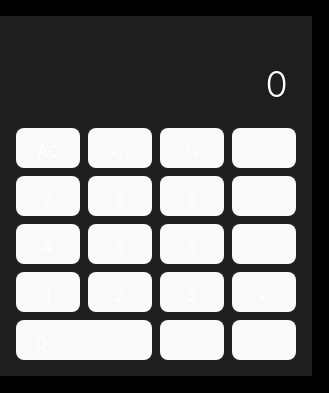
Scenario: CalculatorApp › resets display to "0" after pressing an operator
This screenshot has width=329, height=393.
What coordinates should you click on to do the following:
click the button "7"
I would click on:
 (48, 196)
Its box is [16,176,80,216].
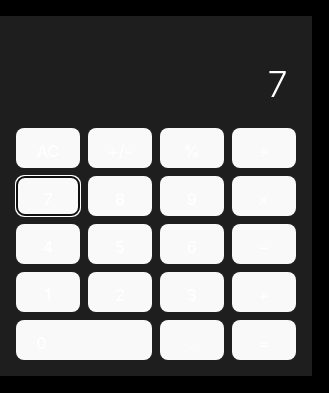
What coordinates should you click on to do the following:
click the button "+"
I would click on:
 (264, 292)
Its box is [232,272,296,312].
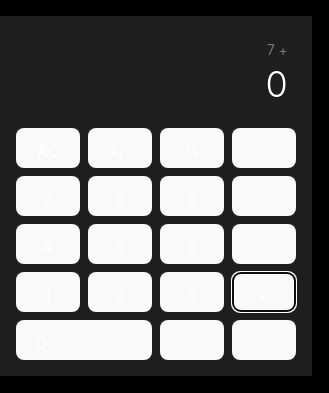
Check: the text with test id "display" reads "0", box [266,64,288,104]
